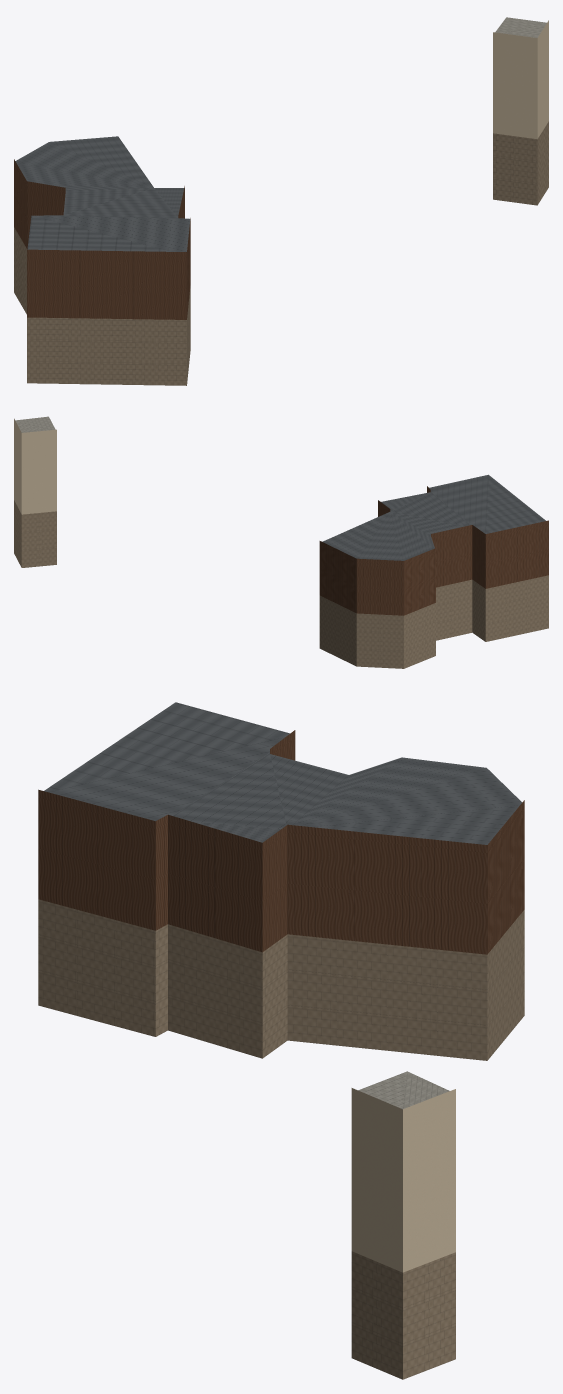
File: bld_c44_31_261.gltf
The picture shows the model from 3 angles, top to bottom: view 1: azimuth 30°, elevation 25°; view 2: azimuth 150°, elevation 25°; view 3: azimuth 270°, elevation 25°; orthographic projection. The views are drawn at different scales.
Visible parts, largest first — view 1: bld_c44_31_261; view 2: bld_c44_31_261; view 3: bld_c44_31_261.
Boxes of the visible parts, left/top/right/bottom form: bld_c44_31_261: left=14, top=17, right=548, bottom=385; bld_c44_31_261: left=14, top=416, right=548, bottom=668; bld_c44_31_261: left=38, top=702, right=524, bottom=1379.
Bounding box in the file's own units: 47.66 × 12.88 × 20.99.
7 materials, 7 textured.
